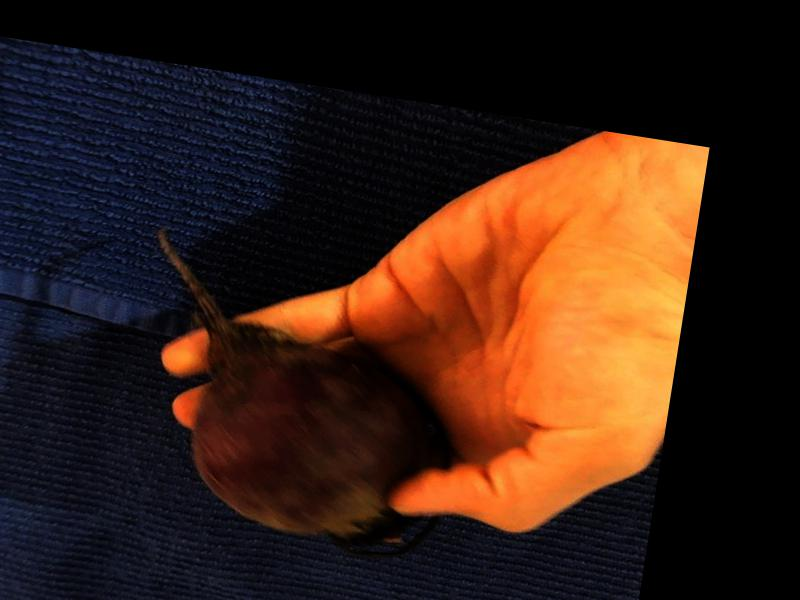Beet: (110, 226, 477, 567)
